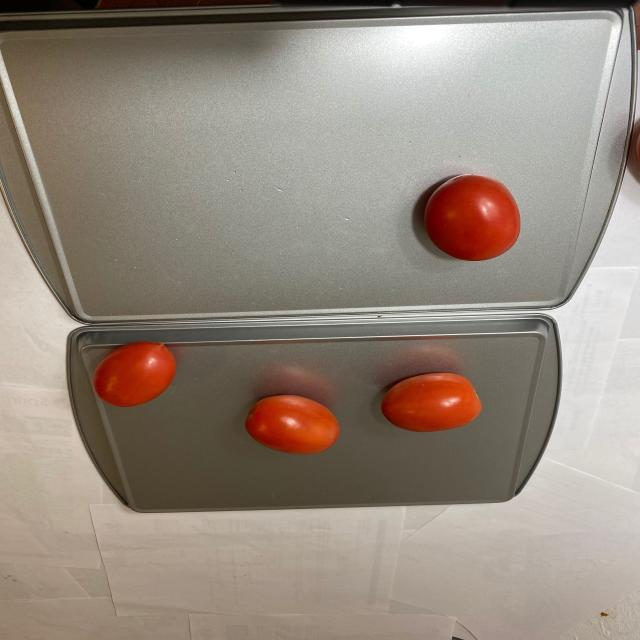tomato: (240, 365, 493, 455), (415, 169, 534, 265), (92, 339, 178, 405)
